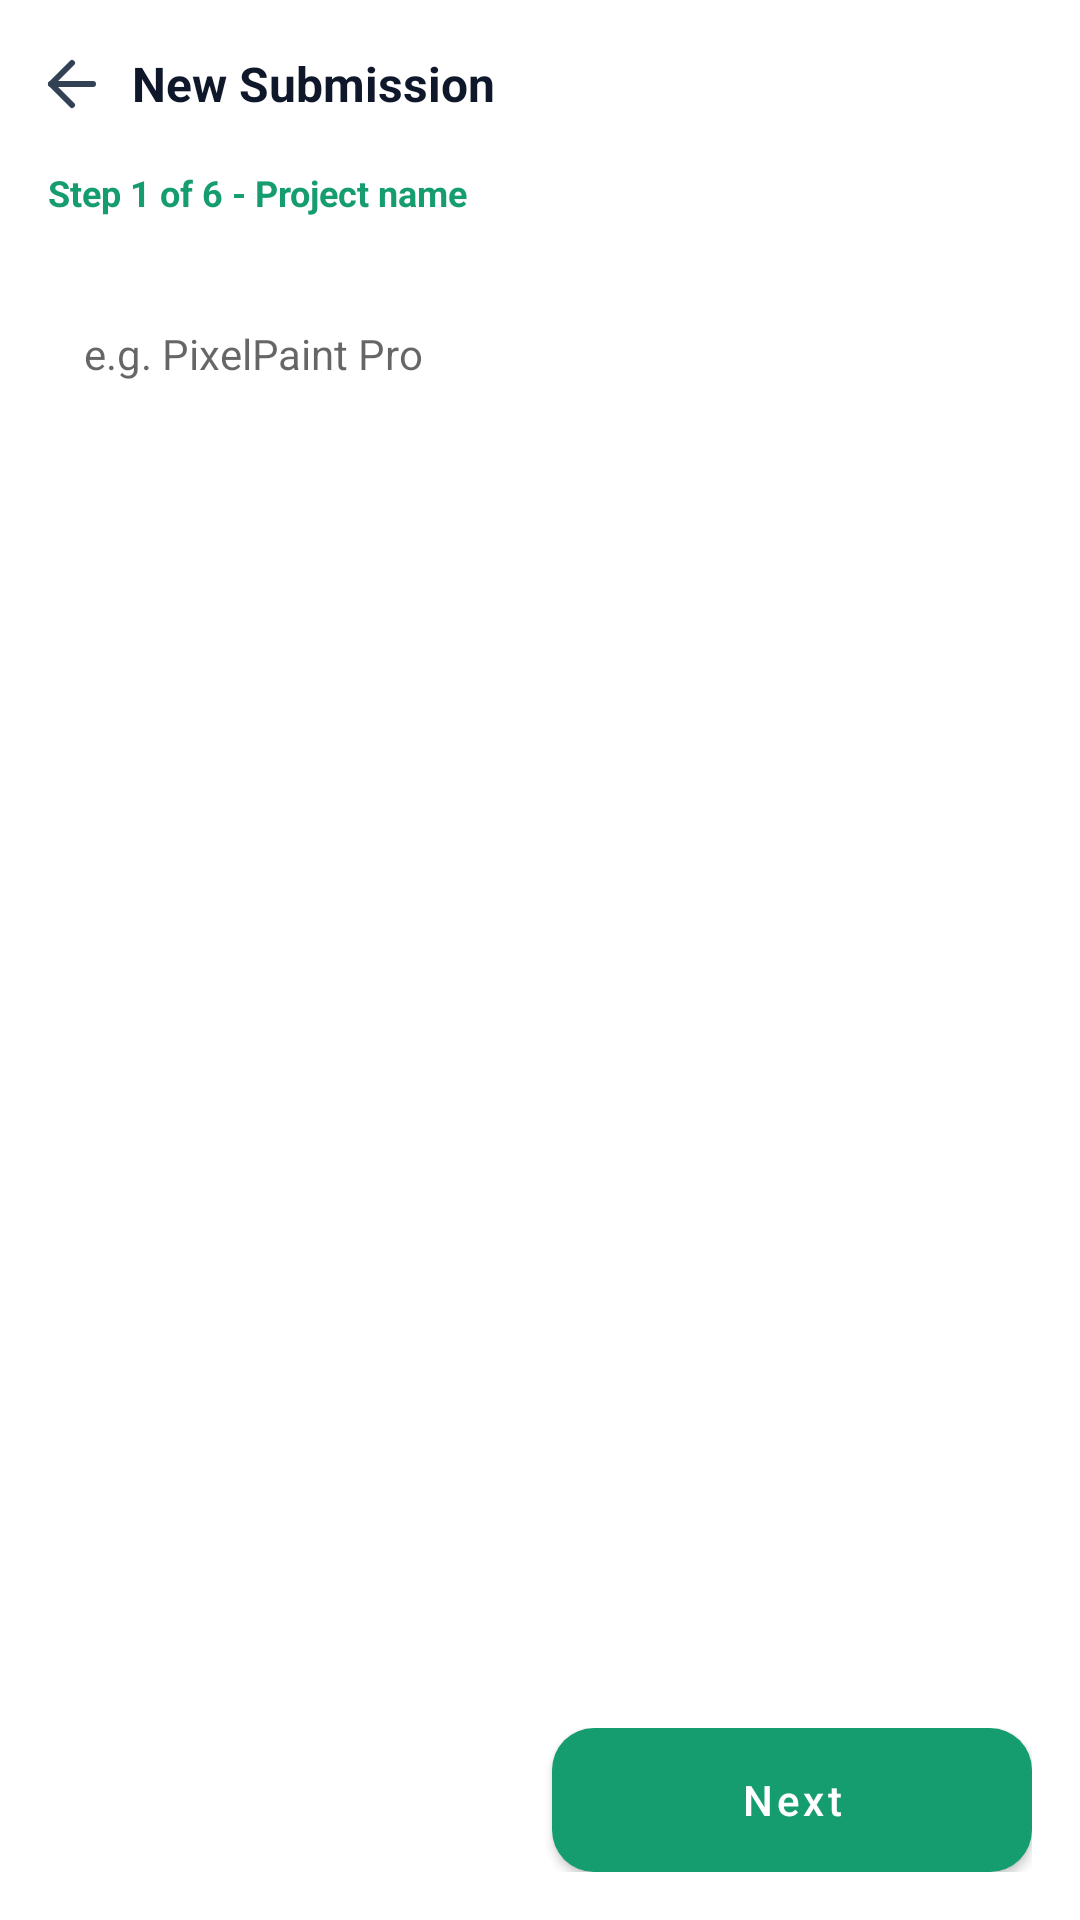

Screen size 1080×1920. Icon name, then its center in pixels as point (x, y):
back: point (72, 84)
